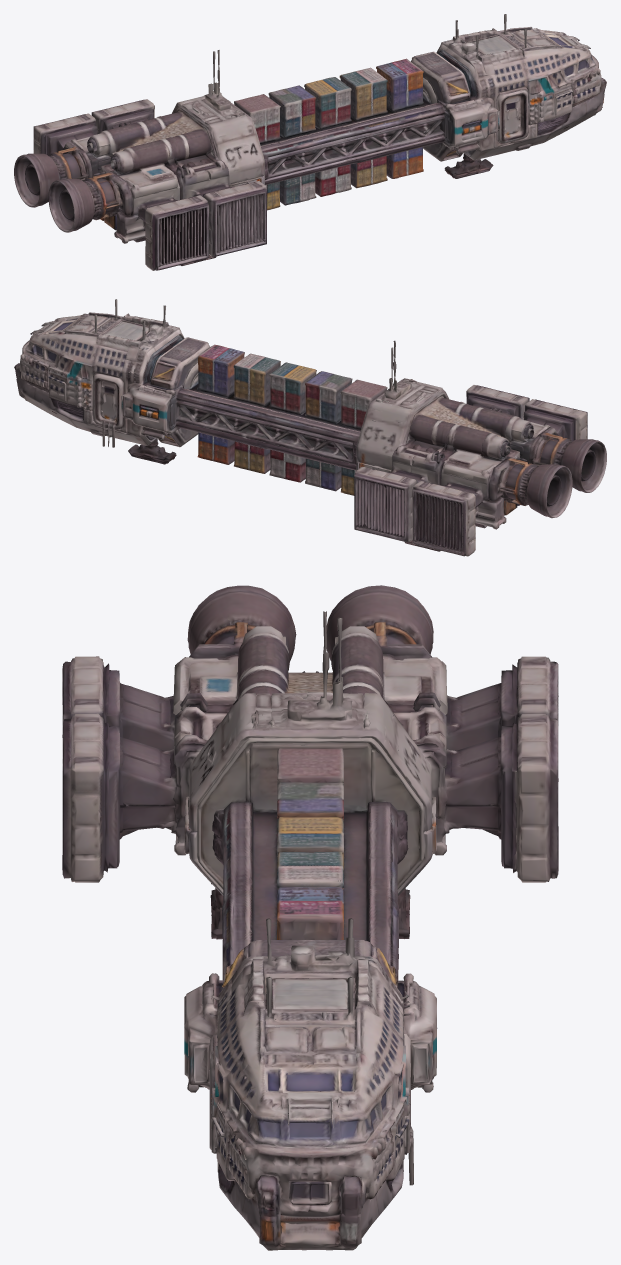
Rendered from freighter.glb.
The picture shows the model from 3 angles, top to bottom: view 1: azimuth 30°, elevation 25°; view 2: azimuth 150°, elevation 25°; view 3: azimuth 270°, elevation 25°; orthographic projection. The views are drawn at different scales.
Parts seen in each view (by area): view 1: tripo_node_6d53e083-c010-44d2-9226-faf50dcf2ae4; view 2: tripo_node_6d53e083-c010-44d2-9226-faf50dcf2ae4; view 3: tripo_node_6d53e083-c010-44d2-9226-faf50dcf2ae4.
Boxes of the visible parts, x1=… form: tripo_node_6d53e083-c010-44d2-9226-faf50dcf2ae4: x1=14, y1=14, x2=606, y2=270; tripo_node_6d53e083-c010-44d2-9226-faf50dcf2ae4: x1=14, y1=299, x2=606, y2=556; tripo_node_6d53e083-c010-44d2-9226-faf50dcf2ae4: x1=62, y1=585, x2=558, y2=1250.
Bounding box in the file's own units: 0.9837 × 0.3065 × 0.383.
1 material, 1 textured.
